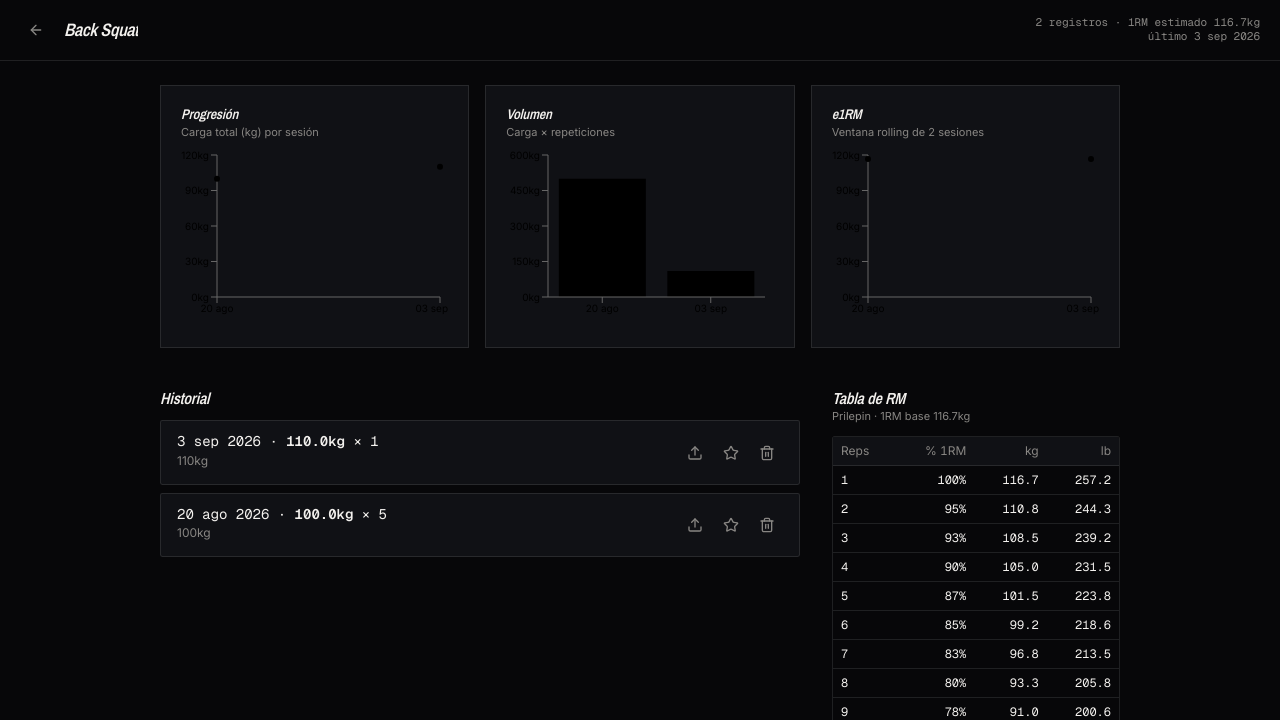
AnalysisPageClient — per-exercise view (issue 0039) › toggles the isOneRepMax flag on click and updates the badge + Prilepin 1RM base
Expected: the text "2 registros · 1RM estimado 116.7kg" is shown, [1036,16,1260,30]
Click the button named "Marcar como 1RM" in the row of "110.0". click: (731, 452)
box: [715,436,747,468]
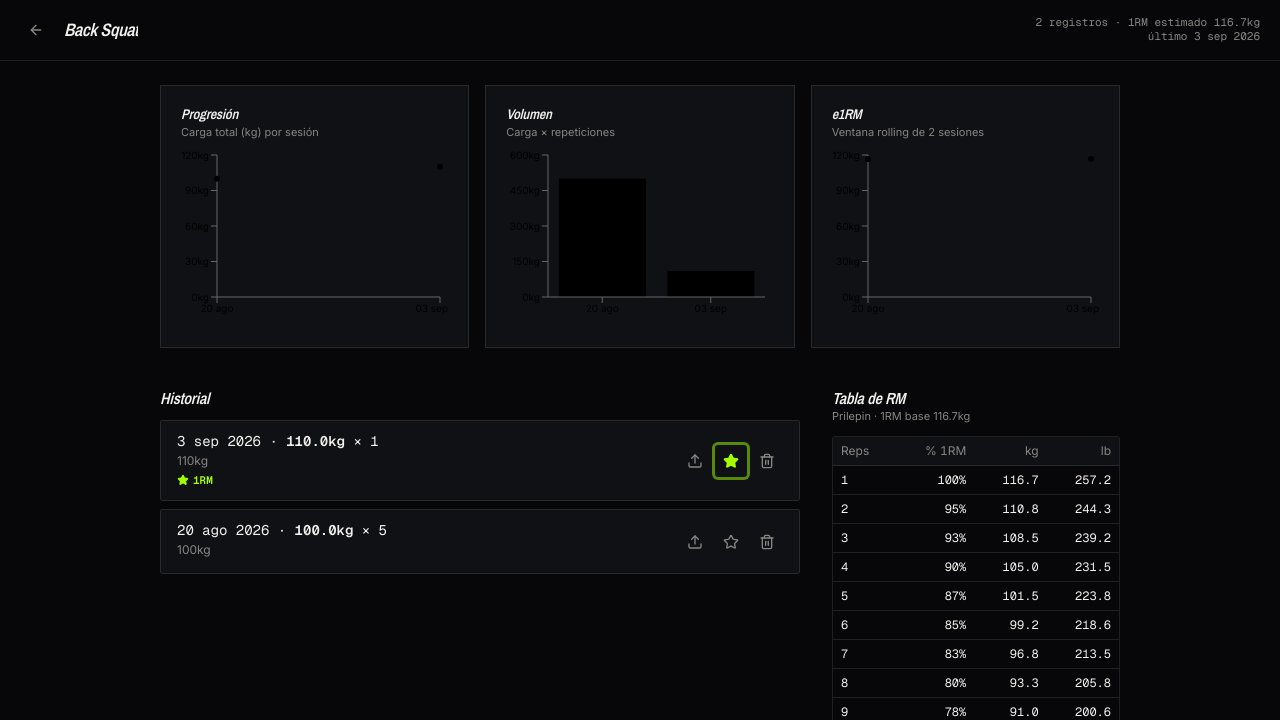
Expected: the text "Prilepin · 1RM base 116.7kg" is shown, [832,409,970,423]
Expected: the element named "Marcado como 1RM" is shown, [177,472,213,488]
